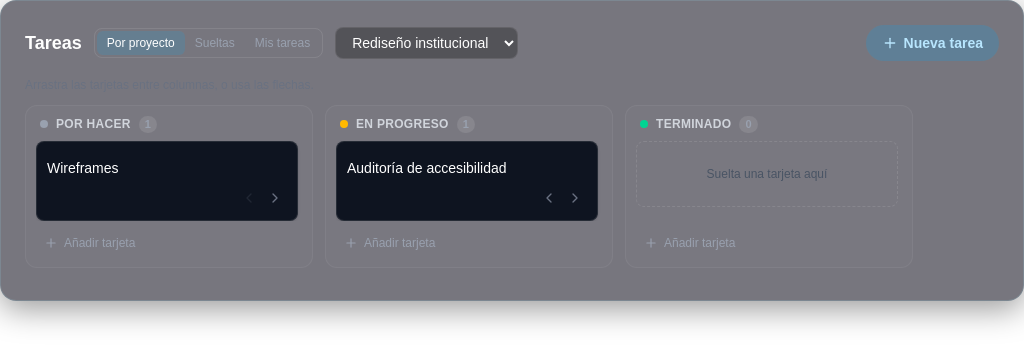
it: TasksSection › switches the visible tasks when a different project is selected
Select "App de rentas" in the dropdown showing "Rediseño institucional" at (427, 43), box [335,27,518,59]
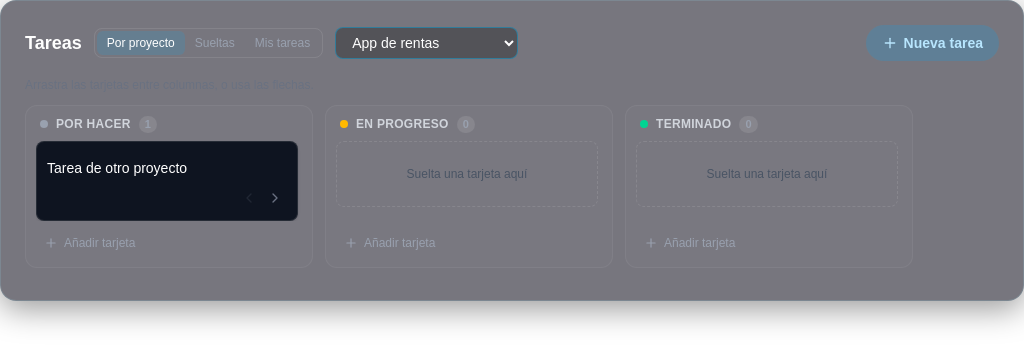
Now the text "Tarea de otro proyecto" is shown, box [47,160,187,176]
Now the text "Wireframes" is gone
